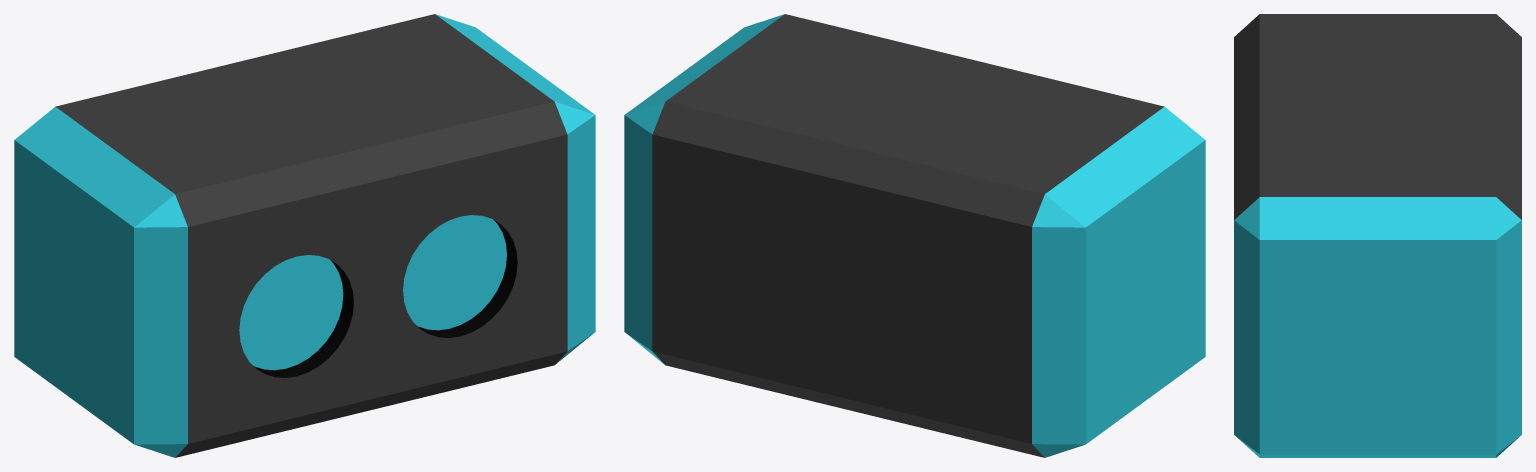
File: long_cube_bar.fbx
3 renders of one model, left to right at view 1: azimuth 30°, elevation 25°; view 2: azimuth 150°, elevation 25°; view 3: azimuth 270°, elevation 25°, orthographic.
Visible parts, largest first — view 1: long bar; view 2: long bar; view 3: long bar.
Part boxes in pixels (x1,y1,x2,y2): long bar: (14, 14, 595, 457); long bar: (624, 14, 1205, 457); long bar: (1234, 14, 1521, 457).
Size of the model in its own units: 366 by 200 by 200.
